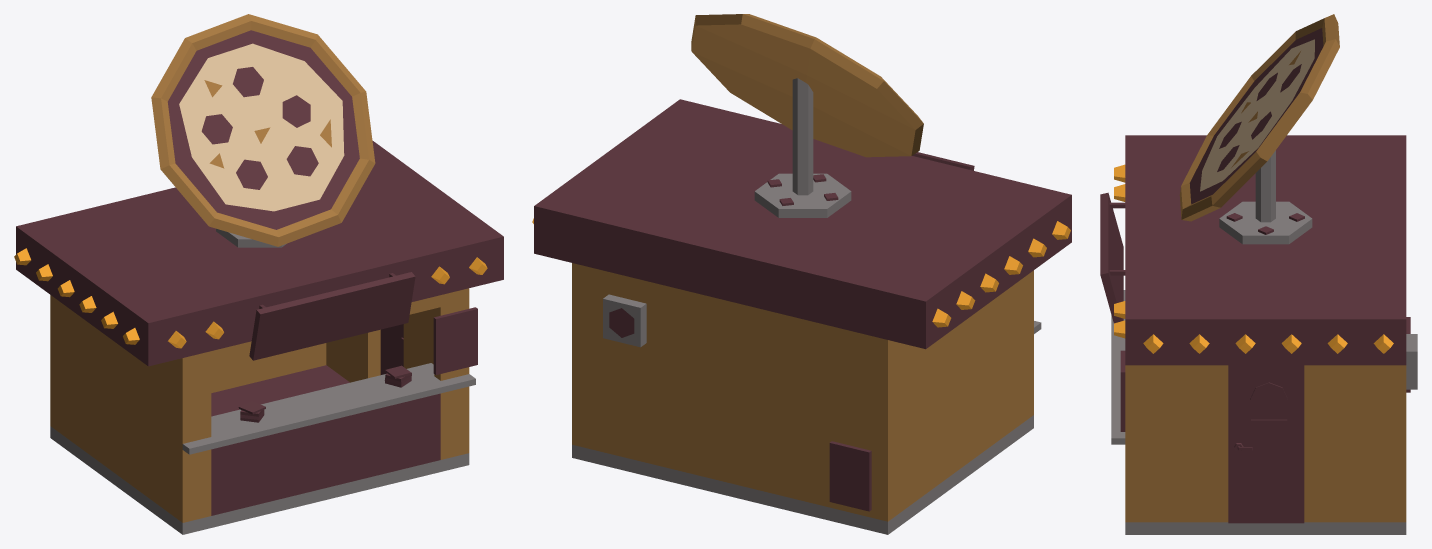
The model's file is pizza-stall.fbx.
3 renders of one model, left to right at view 1: azimuth 30°, elevation 25°; view 2: azimuth 150°, elevation 25°; view 3: azimuth 270°, elevation 25°, orthographic. The views are drawn at different scales.
Visible parts, largest first — view 1: pizza-stall; view 2: pizza-stall; view 3: pizza-stall.
Boxes of the visible parts, left/top/right/bottom form: pizza-stall: left=14, top=14, right=503, bottom=534; pizza-stall: left=532, top=14, right=1071, bottom=534; pizza-stall: left=1100, top=14, right=1417, bottom=534.
Size of the model in its own units: 4.9 by 5.11 by 3.39.
